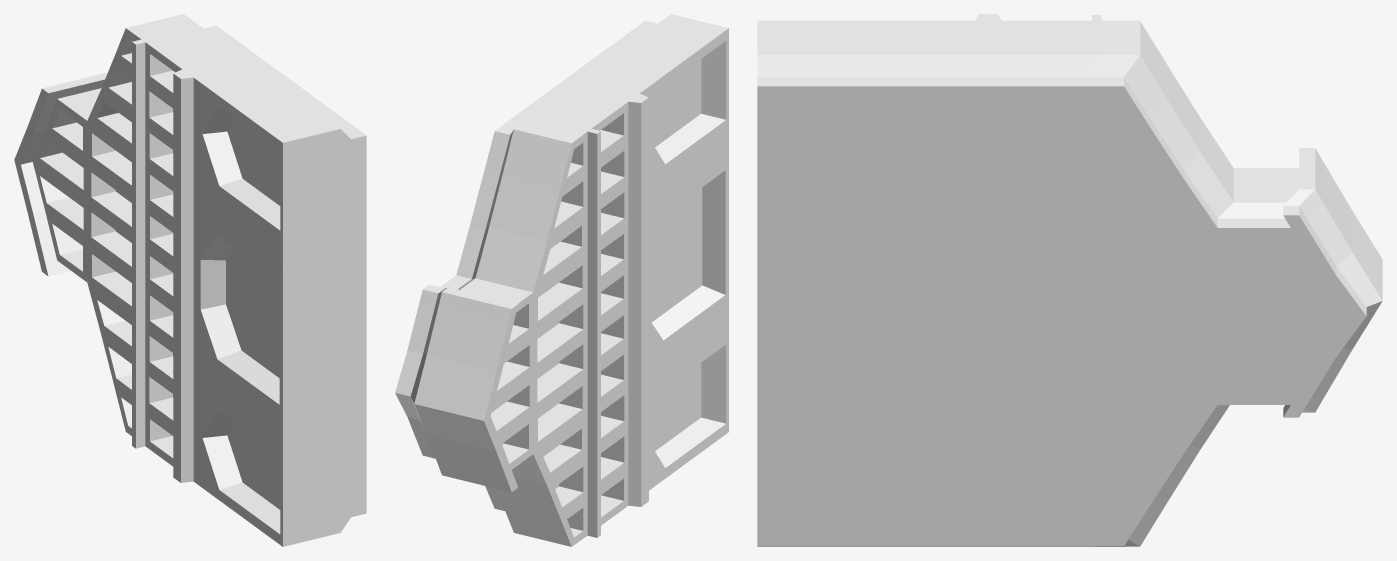
The model's file is venice_building_20.fbx.
3 renders of one model, left to right at view 1: azimuth 30°, elevation 25°; view 2: azimuth 150°, elevation 25°; view 3: azimuth 270°, elevation 25°, orthographic. The views are drawn at different scales.
Parts seen in each view (by area): view 1: Cube.363; view 2: Cube.363; view 3: Cube.363.
Boxes of the visible parts, box(x1,y1,x2,y2) form: Cube.363: box(14, 14, 366, 546); Cube.363: box(395, 14, 728, 546); Cube.363: box(757, 14, 1382, 546).
Size of the model in its own units: 392 by 1583 by 1823.
